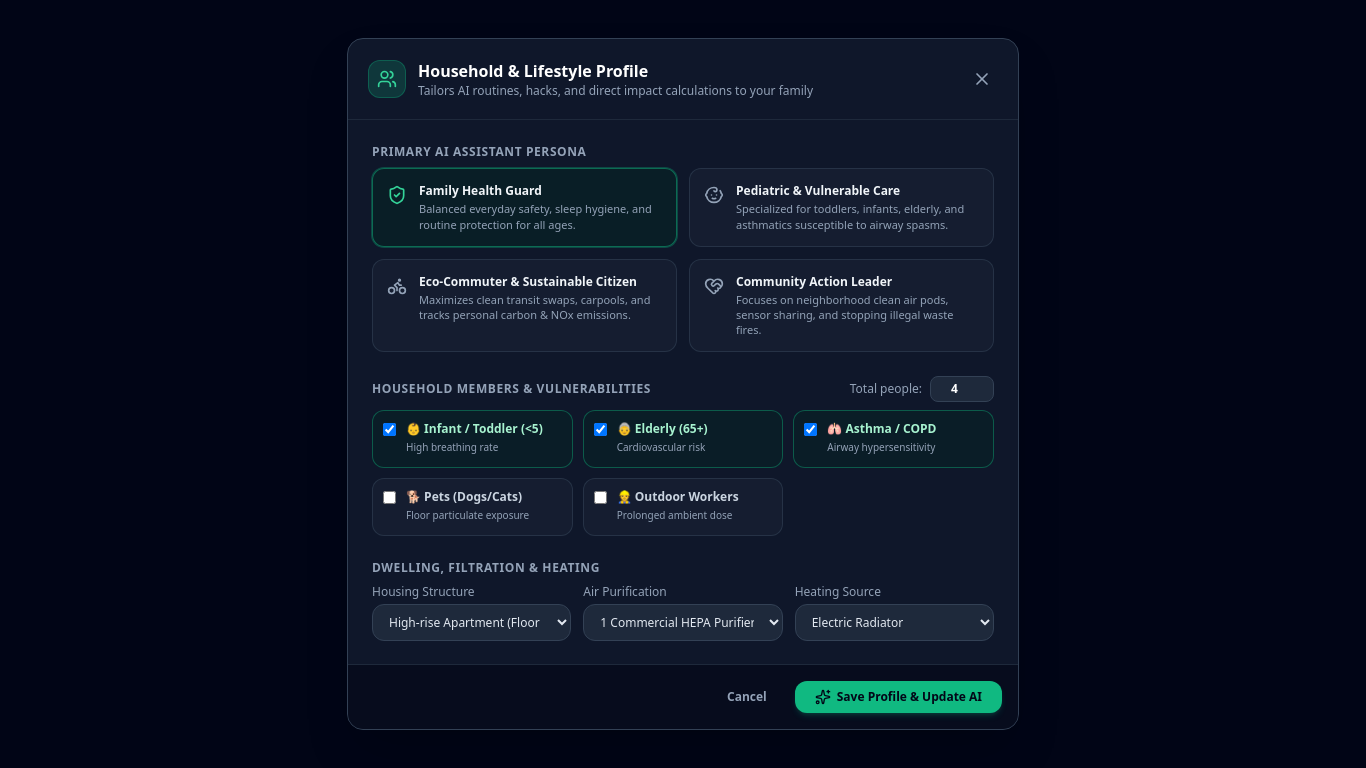
Test: ProfileModal Component › supports persona selection via button[role="radio"] with aria-checked
# Select Pediatric & Vulnerable Care
Click the radio button that starts with "Pediatric & Vulnerable Care" at (842, 208), box [689,168,994,247]
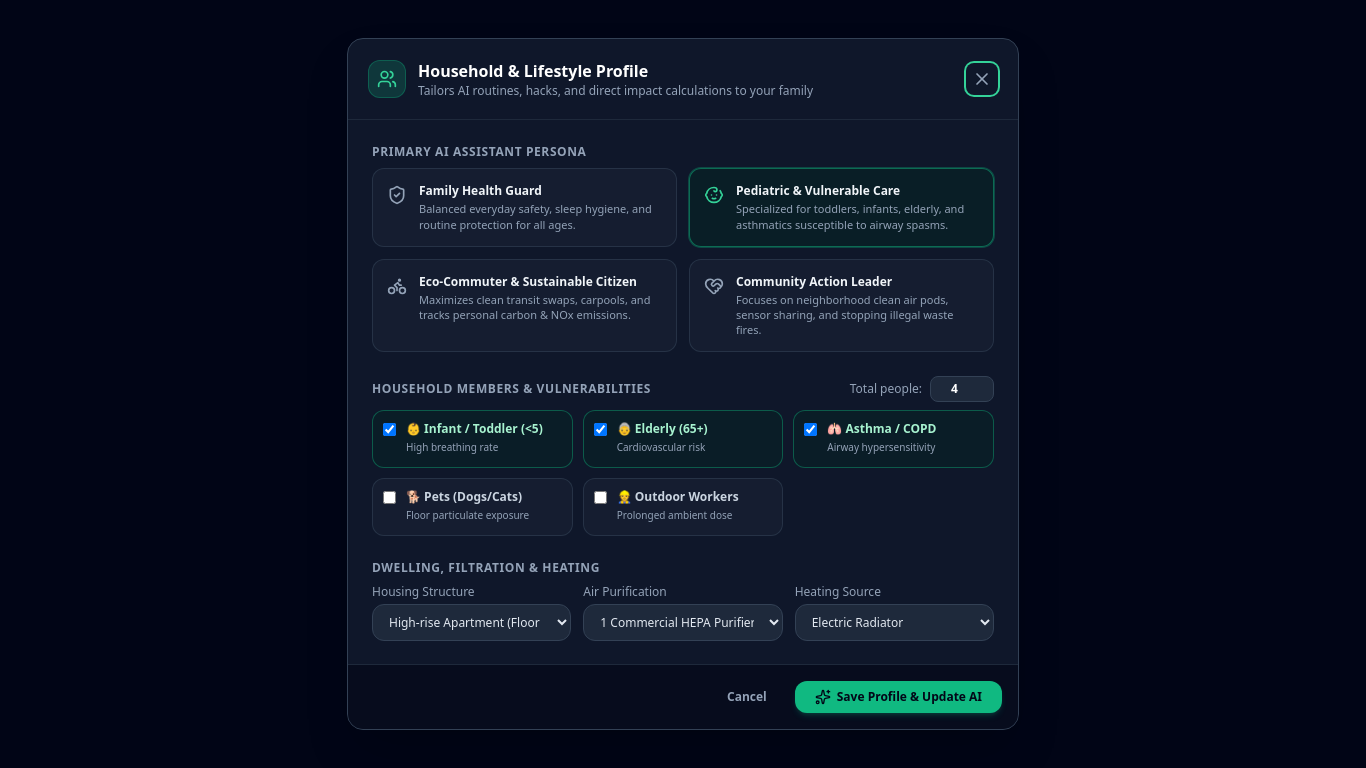
Expected: the radio button that starts with "Pediatric & Vulnerable Care" is checked, [689,168,994,247]
Expected: the radio button that starts with "Family Health Guard" is not checked, [372,168,677,247]
